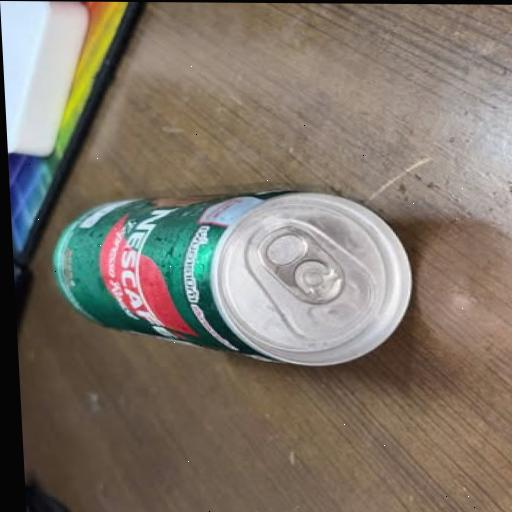canned: (34, 174, 440, 377)
